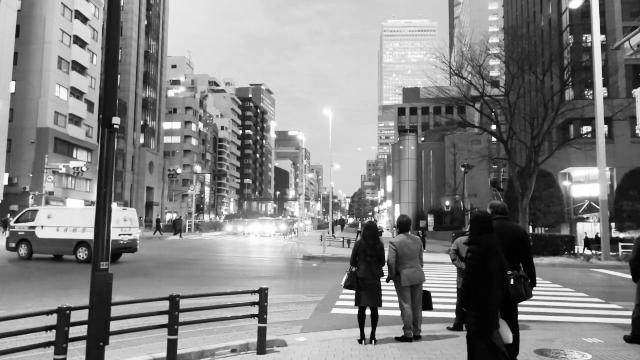berdiri: (458, 208, 516, 360), (344, 212, 384, 344), (388, 211, 428, 343)
